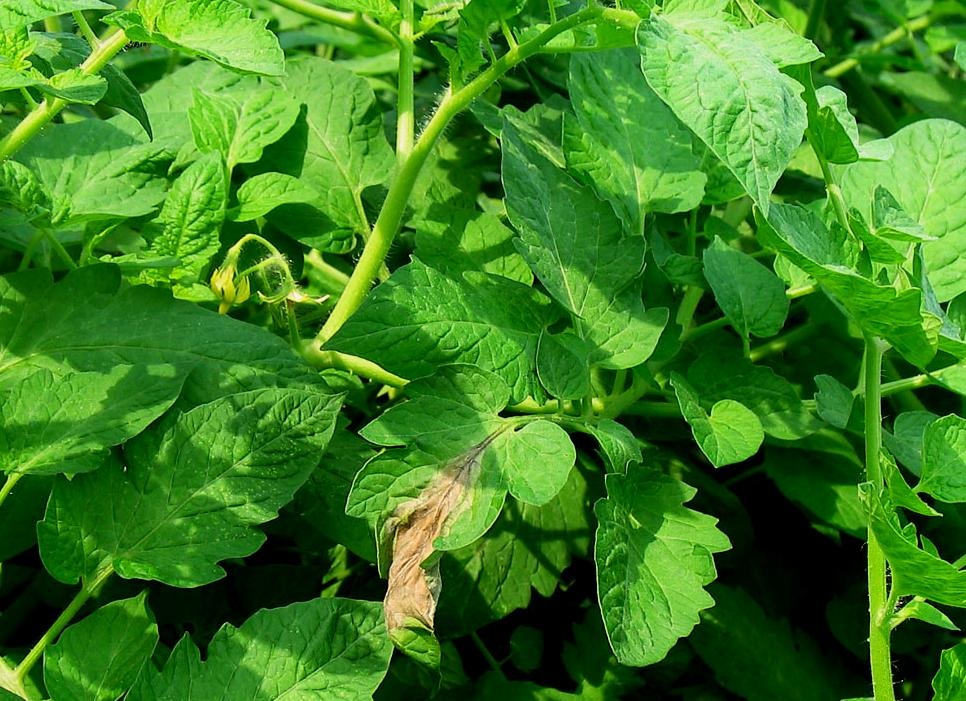Tomato leaf: (40, 375, 345, 623), (477, 100, 671, 402), (587, 432, 736, 677), (567, 17, 712, 268), (0, 336, 174, 499), (112, 609, 401, 701), (848, 109, 966, 302), (36, 587, 166, 701), (132, 1, 300, 74)
Tomato leaf late blight: (349, 394, 564, 609)
